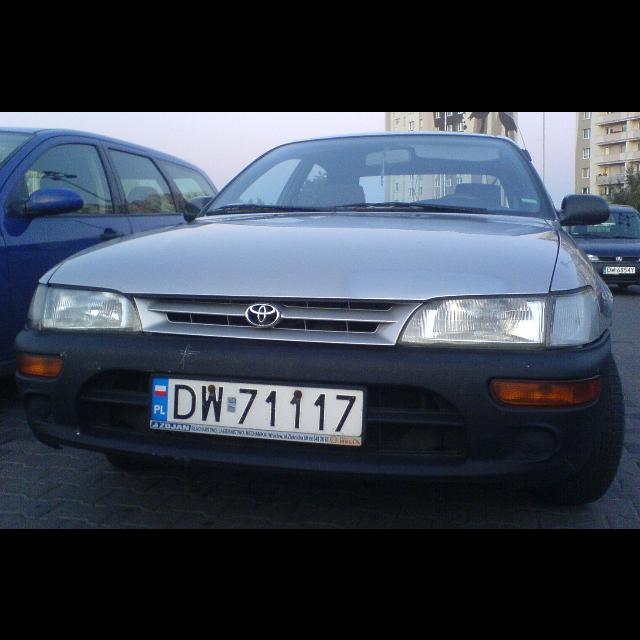pl_license_plate: (150, 374, 364, 446)
